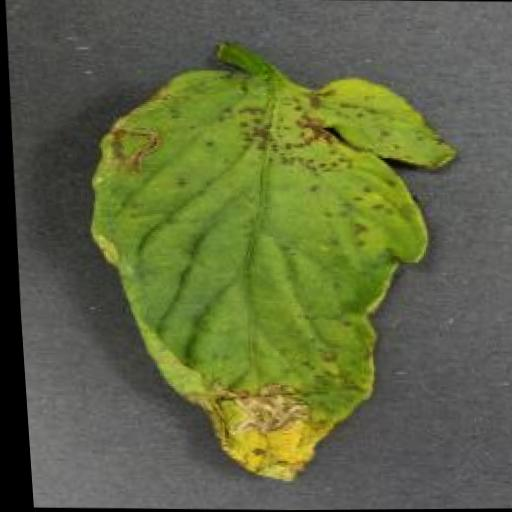Bacterial Spot: (66, 63, 479, 493)
